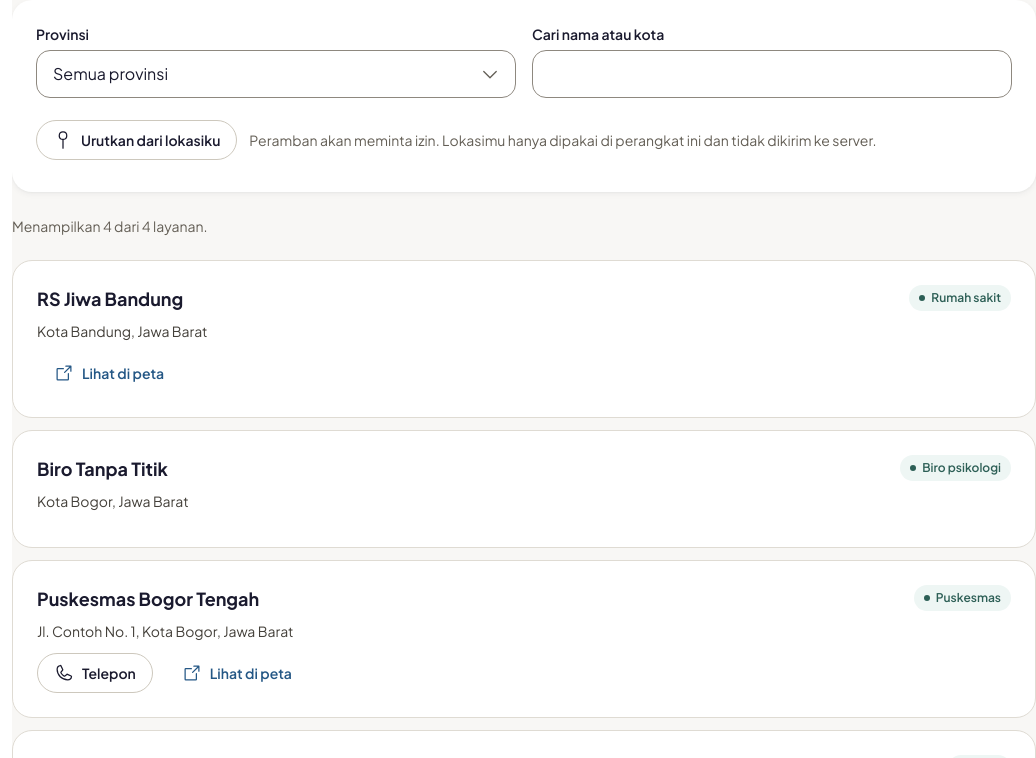
Test: FacilityDirectory › lokasi › denied: pesan yang jelas dan daftar tetap bisa dipakai
Step 1. Click the button "Urutkan dari lokasiku" → (137, 140), box x1=36 y1=120 x2=237 y2=160
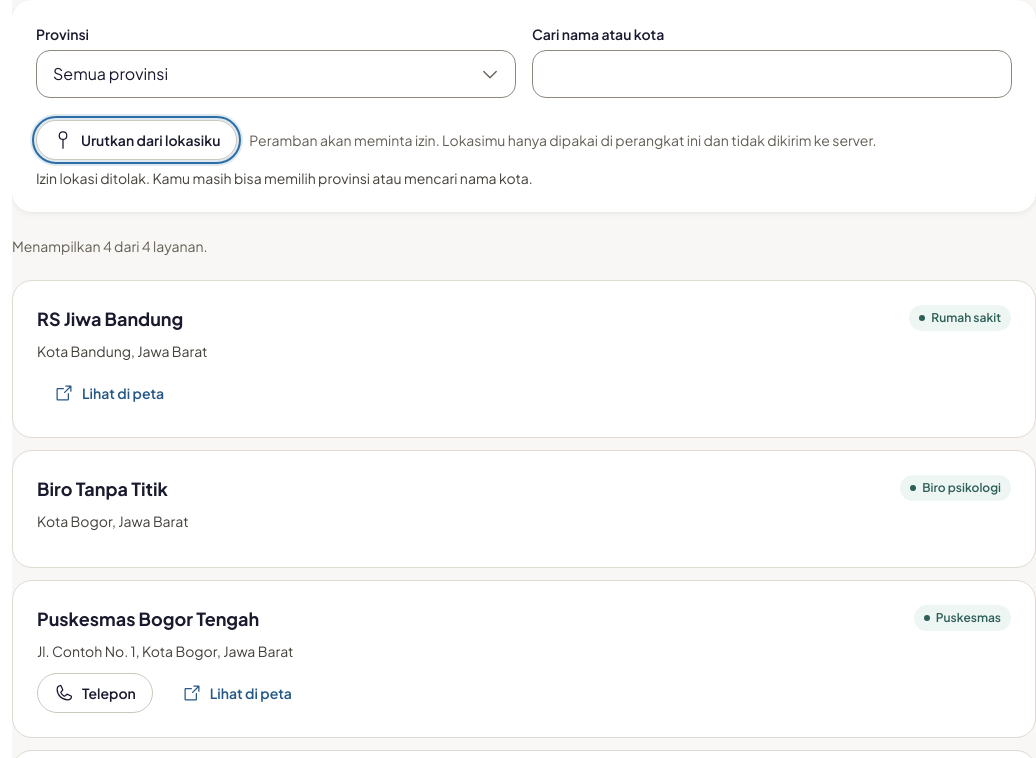
Expected: the text "Izin lokasi ditolak. Kamu masih bisa memilih provinsi atau mencari nama kota." is shown, x1=36 y1=169 x2=533 y2=187
